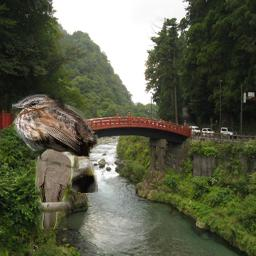Cuckoo: (35, 139, 86, 229)
Sparrow: (12, 94, 98, 193)
